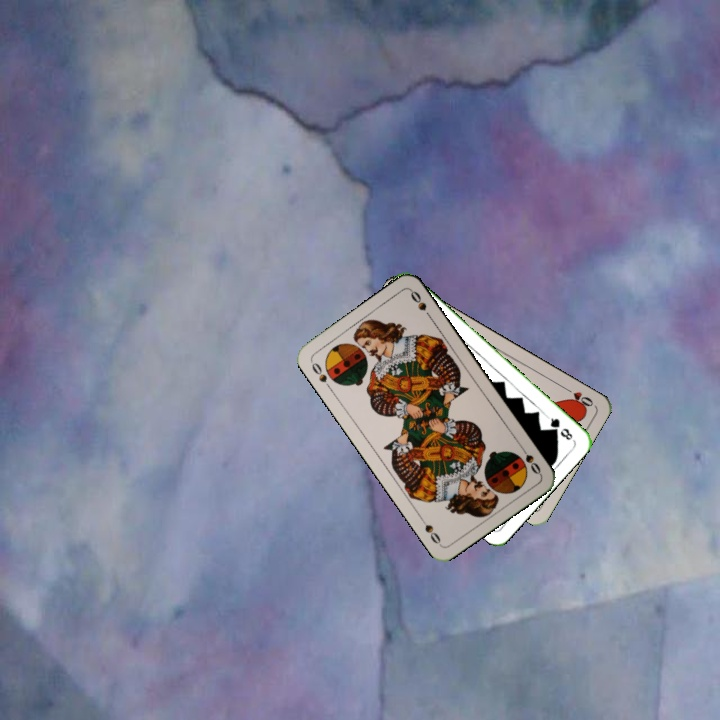G8: (543, 412, 575, 443)
HO: (560, 382, 596, 411)
SO: (307, 357, 335, 393), (516, 441, 543, 477)
